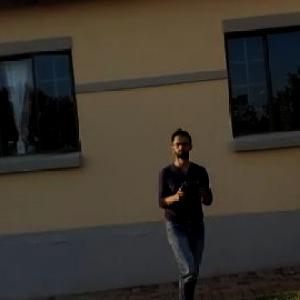follow: (153, 122, 221, 299)
